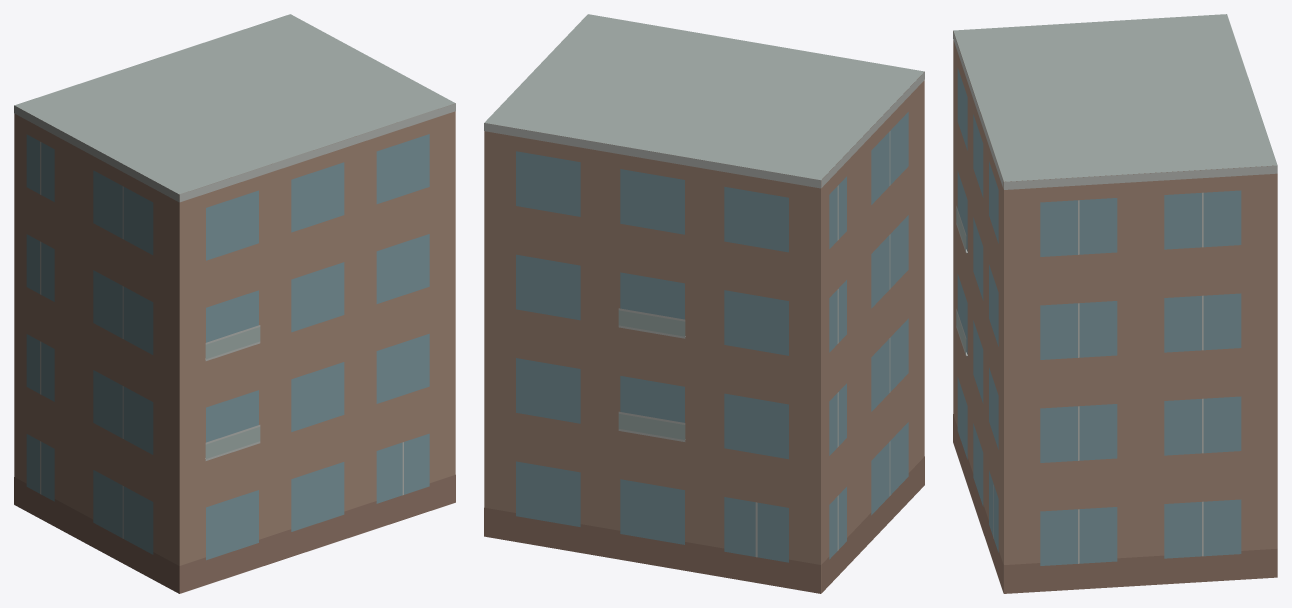
The model's file is residential-03f7d031-7599-4b64-95e9-6f32a8cc1fcd.glb.
The picture shows the model from 3 angles, left to right: view 1: azimuth 30°, elevation 25°; view 2: azimuth 150°, elevation 25°; view 3: azimuth 270°, elevation 25°; orthographic projection. The views are drawn at different scales.
Parts seen in each view (by area): view 1: residential-03f7d031-7599-4b64-95e9-6f32a8cc1fcd.tmp; view 2: residential-03f7d031-7599-4b64-95e9-6f32a8cc1fcd.tmp; view 3: residential-03f7d031-7599-4b64-95e9-6f32a8cc1fcd.tmp.
Boxes of the visible parts, left/top/right/bottom form: residential-03f7d031-7599-4b64-95e9-6f32a8cc1fcd.tmp: left=14, top=14, right=455, bottom=593; residential-03f7d031-7599-4b64-95e9-6f32a8cc1fcd.tmp: left=484, top=14, right=924, bottom=593; residential-03f7d031-7599-4b64-95e9-6f32a8cc1fcd.tmp: left=953, top=14, right=1277, bottom=593.
Bounding box in the file's own units: 10.67 × 12.2 × 8.72.
